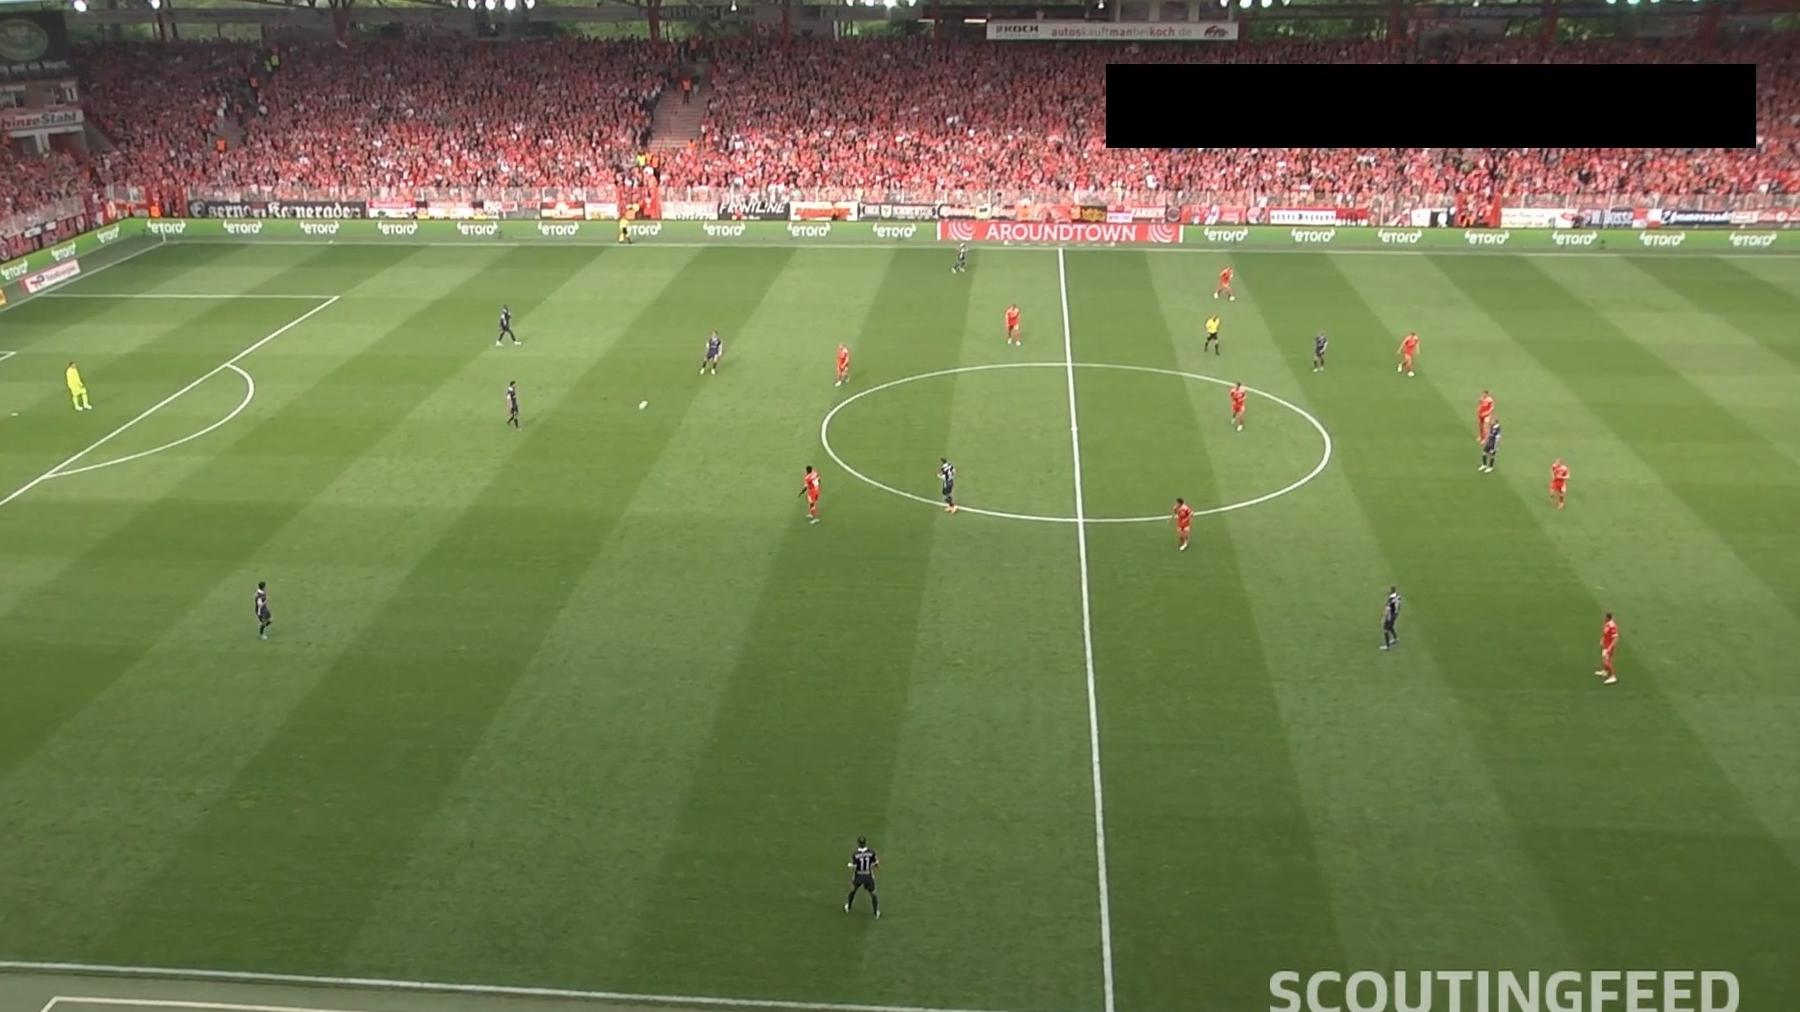ball: (637, 399, 649, 411)
